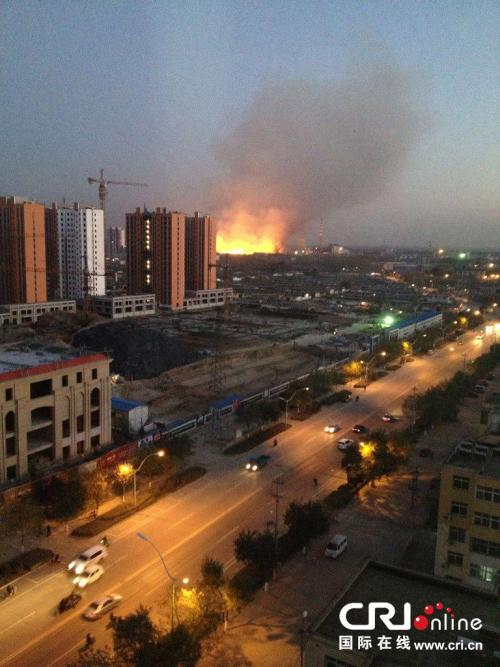fire: (212, 217, 296, 256)
smoke: (233, 70, 416, 198)
